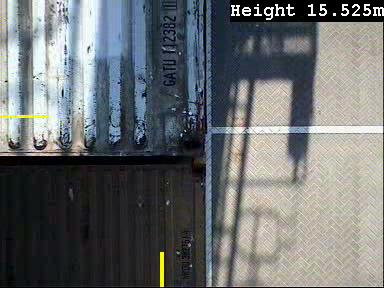groundmarker_2: (191, 148, 233, 201)
